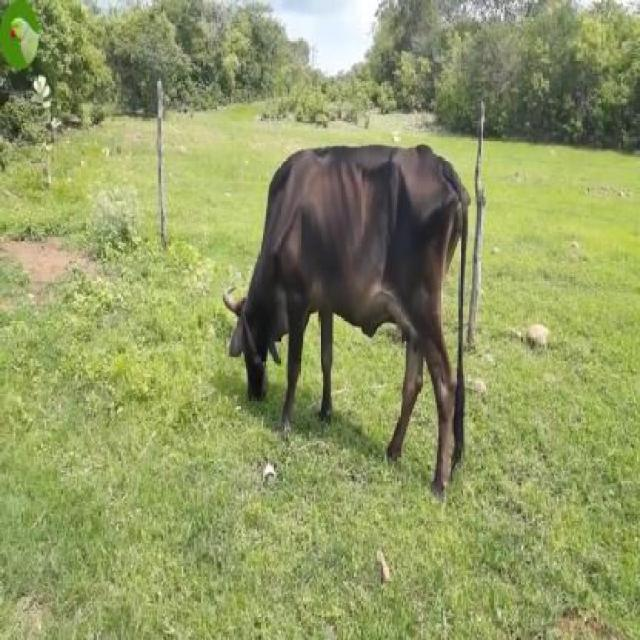Cow: (232, 142, 470, 506)
